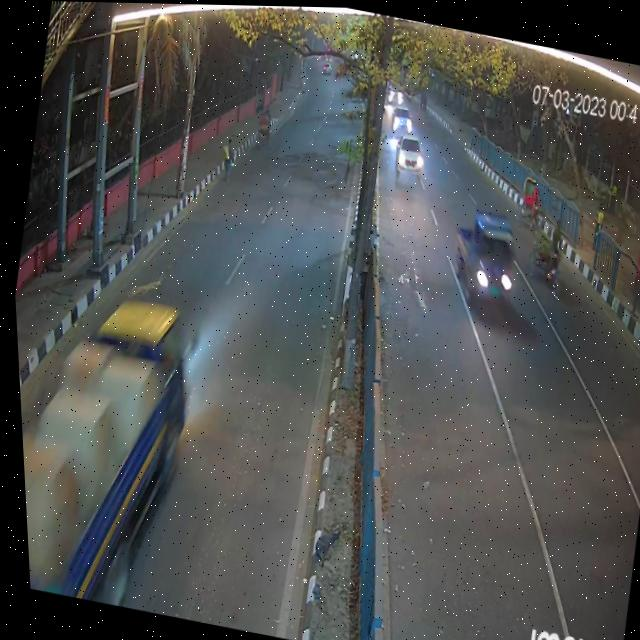rikshaw: (509, 170, 549, 236), (251, 102, 277, 153)
